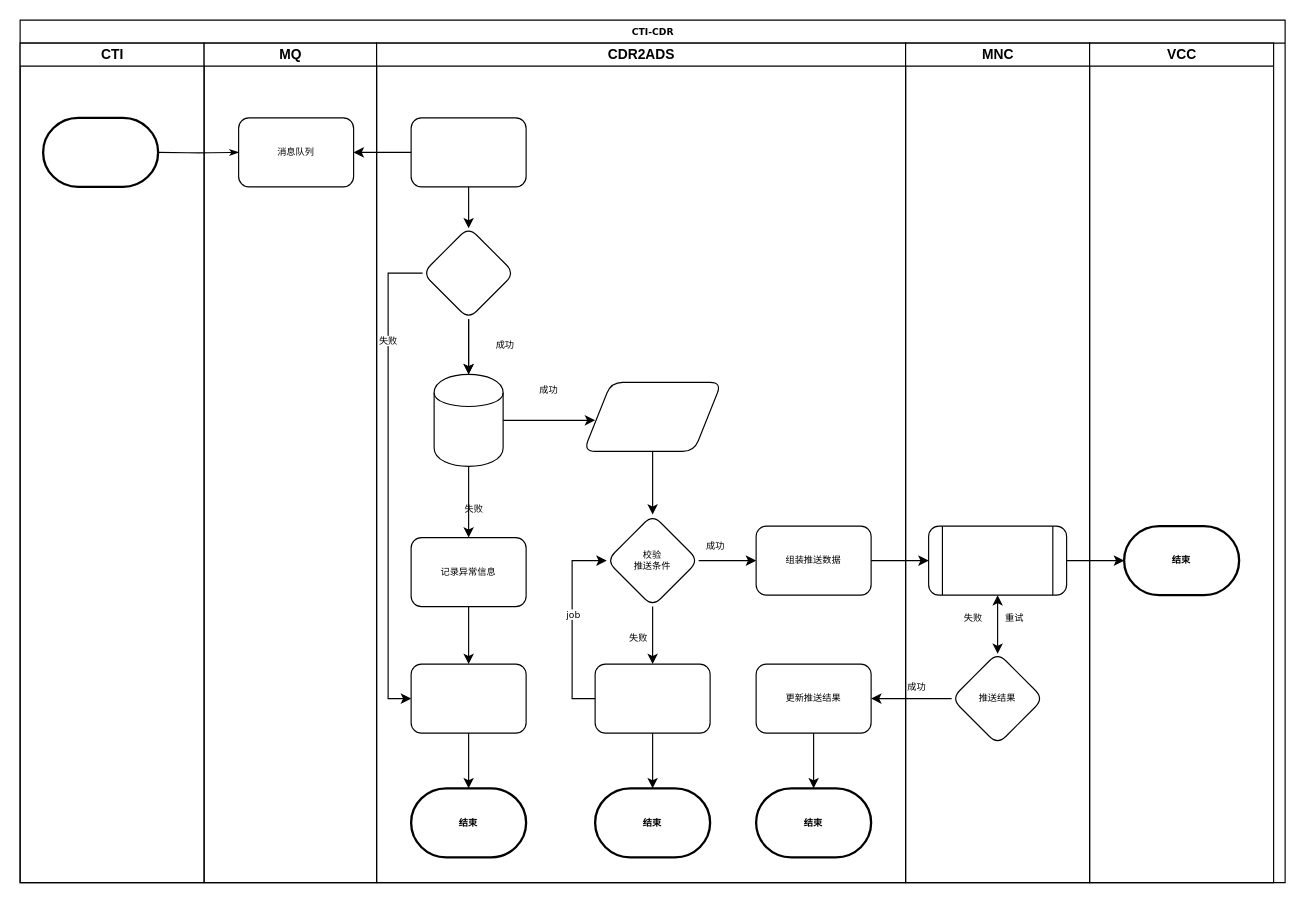
Some shapes in this 1305 by 903 pixel diagram are drawn without their labels. The shapes that lost their labels are listed below. From the top down, each one's centre as x and y in pixels, then its label:
At [100,151]: "开始 推送消息".
At [468,152]: "监听消息队列".
At [468,272]: "校验 订阅规则".
At [468,419]: "持久化推送记录".
At [652,416]: "异步推送开始".
At [997,560]: "mnc-http推送".
At [468,698]: "签收消息".
At [652,698]: "补偿策略".
